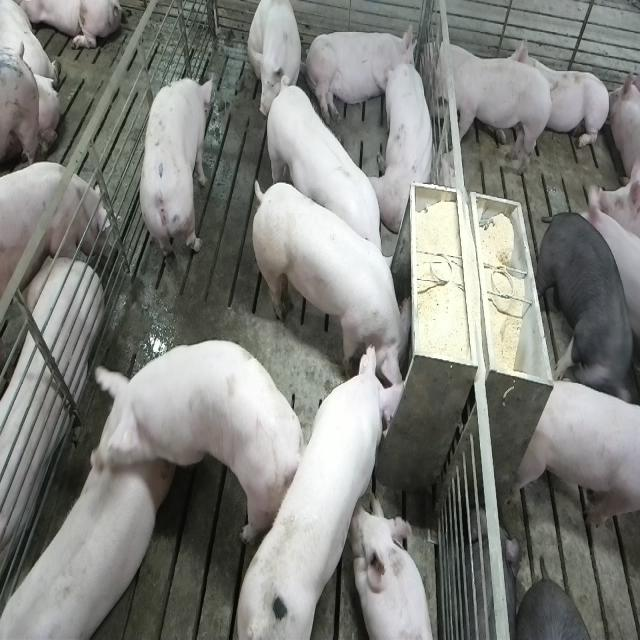Feeding: (241, 340, 415, 634), (255, 173, 419, 398)
Lateral_lying: (0, 250, 102, 596), (303, 22, 418, 126)
Sitting: (248, 1, 304, 119)
Standing: (86, 341, 301, 546), (261, 77, 393, 286), (0, 462, 154, 640), (512, 374, 639, 538), (537, 215, 637, 406), (424, 53, 555, 181), (140, 71, 224, 268), (0, 162, 110, 302)
Sternal_lying: (503, 29, 608, 152), (356, 496, 438, 640), (376, 57, 437, 235)
